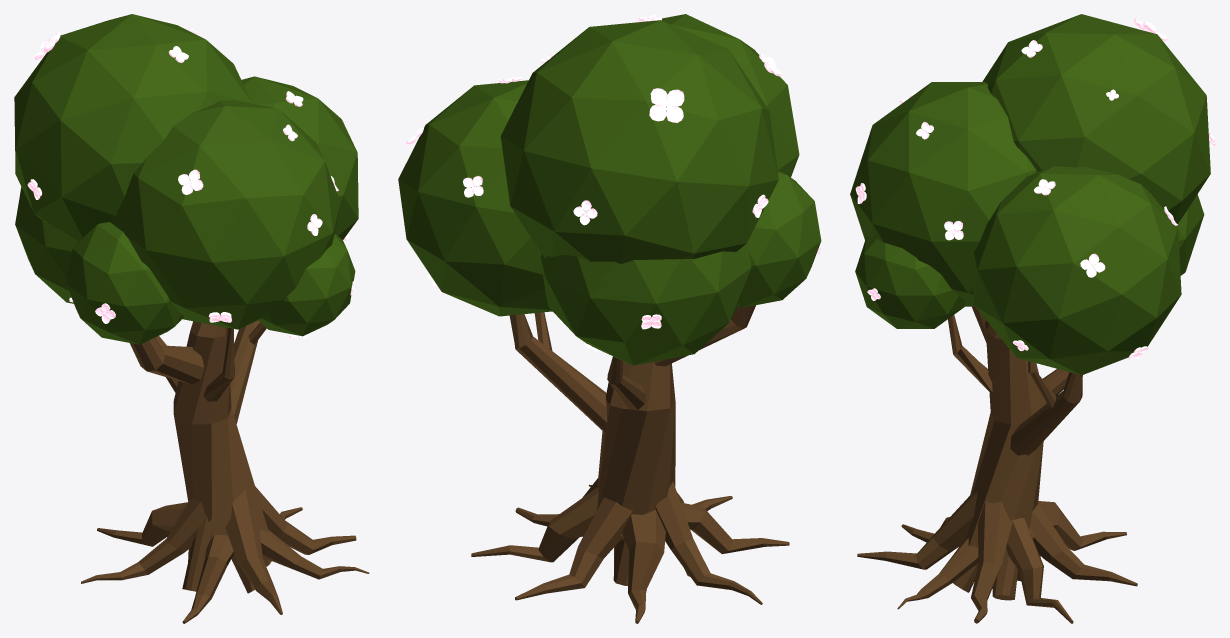
The model's file is tree1.fbx.
3 renders of one model, left to right at view 1: azimuth 30°, elevation 25°; view 2: azimuth 150°, elevation 25°; view 3: azimuth 270°, elevation 25°, orthographic. The views are drawn at different scales.
Parts seen in each view (by area): view 1: Icosphere.021; view 2: Icosphere.021; view 3: Icosphere.021.
Part boxes in pixels (x1,y1,x2,y2): Icosphere.021: (14, 14, 369, 623); Icosphere.021: (398, 14, 821, 623); Icosphere.021: (850, 14, 1215, 623).
Size of the model in its own units: 636 by 1024 by 634.
